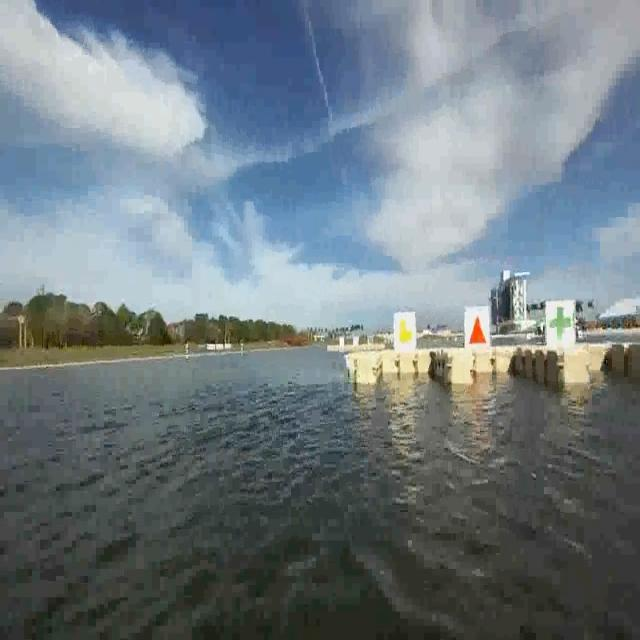blue-cross: (545, 299, 575, 346)
red-dot: (467, 310, 488, 347)
yellow-duck: (392, 308, 416, 344)
